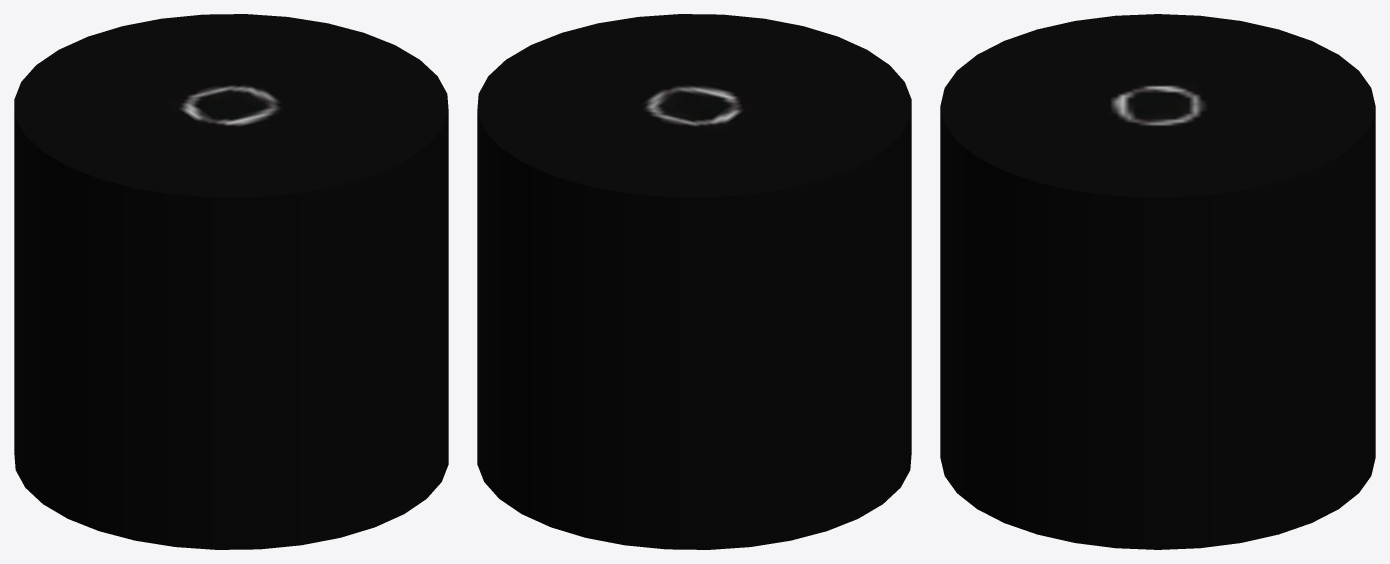
Rendered from front_rollers__roller_0.glb.
3 renders of one model, left to right at view 1: azimuth 30°, elevation 25°; view 2: azimuth 150°, elevation 25°; view 3: azimuth 270°, elevation 25°, orthographic.
Visible parts, largest first — view 1: geometry_0; view 2: geometry_0; view 3: geometry_0.
Boxes of the visible parts, box(x1,y1,x2,y2) form: geometry_0: box(14, 14, 448, 549); geometry_0: box(477, 14, 911, 549); geometry_0: box(940, 14, 1375, 549).
Size of the model in its own units: 0.084 by 0.075 by 0.084.
1 material, 1 textured.
